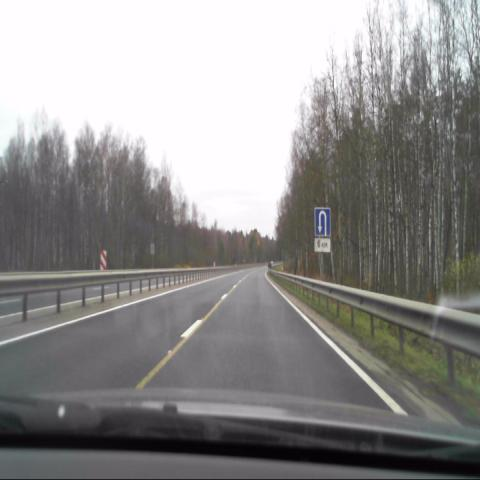6_3_1: (315, 207, 330, 237)
